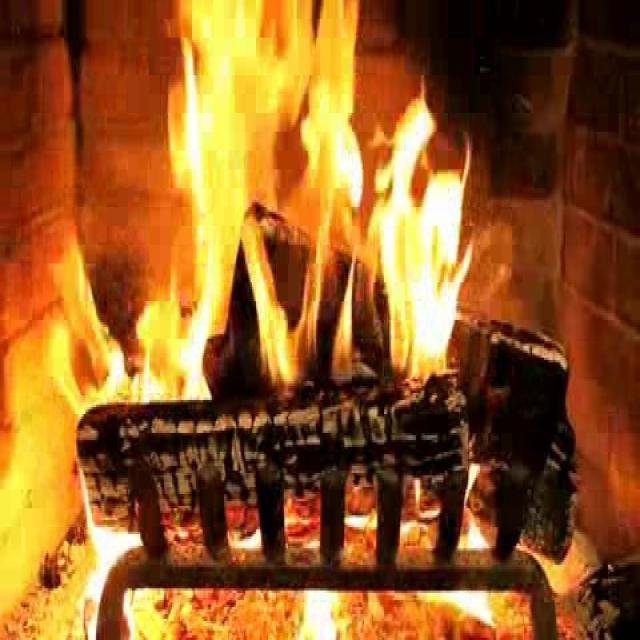fire: (142, 7, 474, 418)
